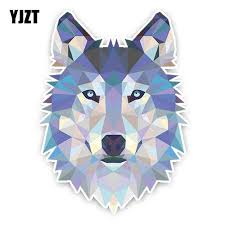Lobo: (46, 8, 196, 208)
